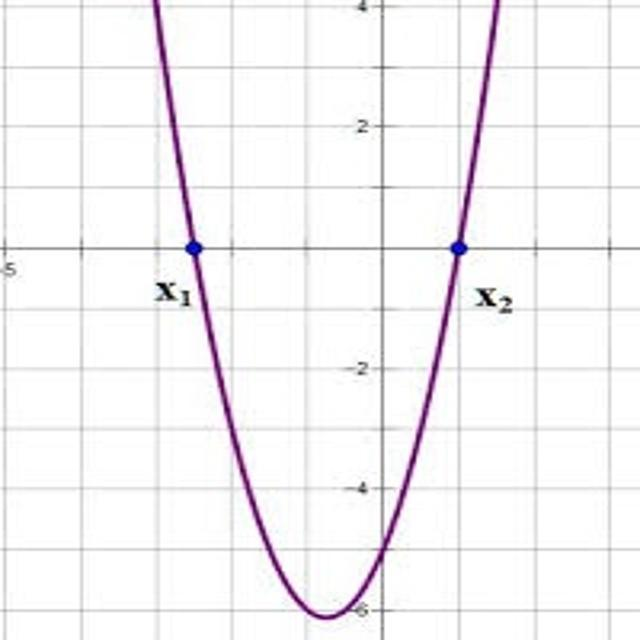axis: (374, 0, 392, 640), (1, 242, 640, 255)
line: (150, 0, 507, 625)
